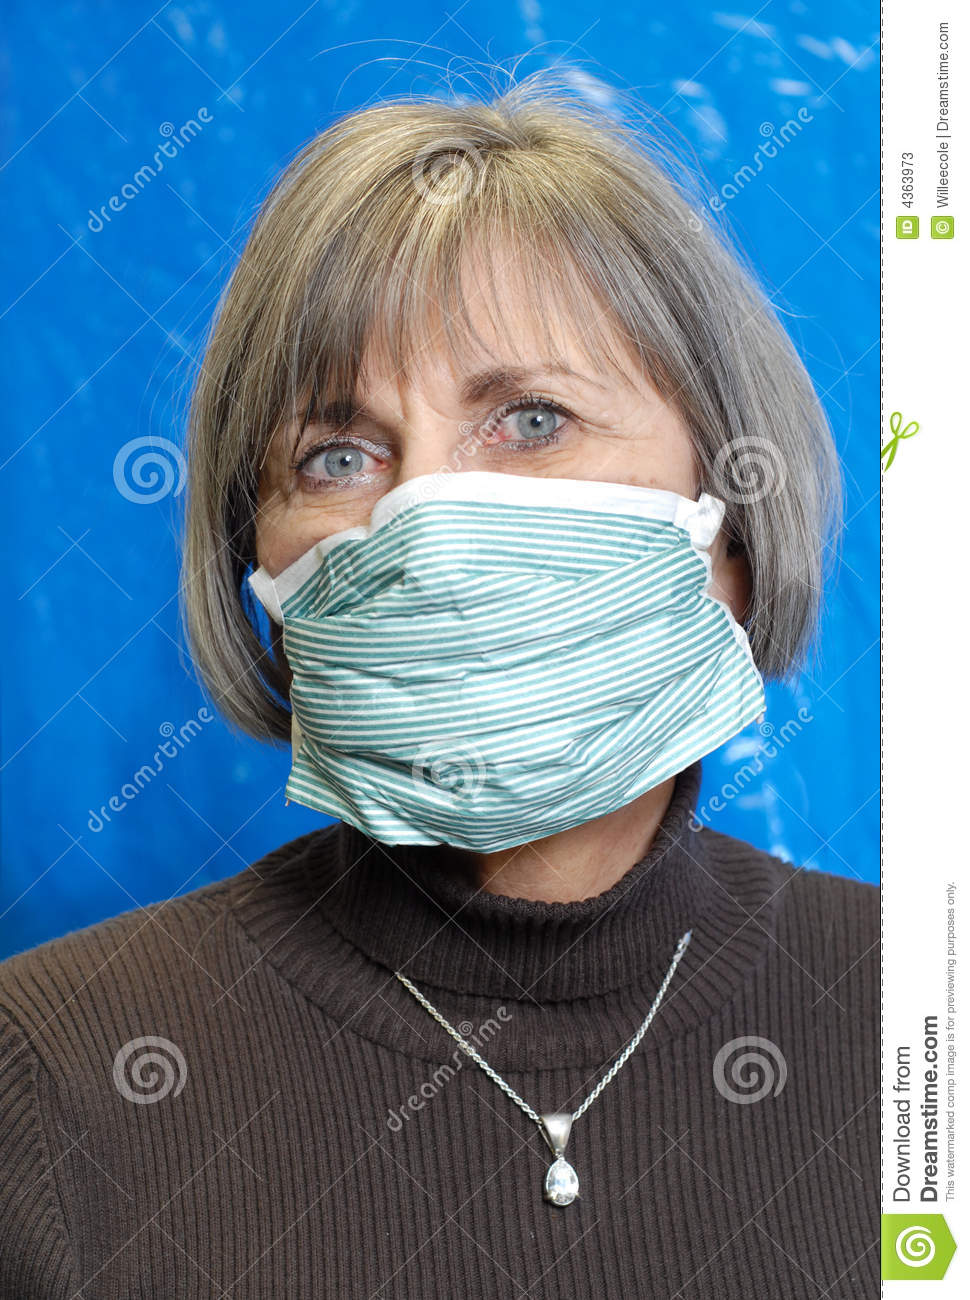mask: (260, 465, 760, 851)
